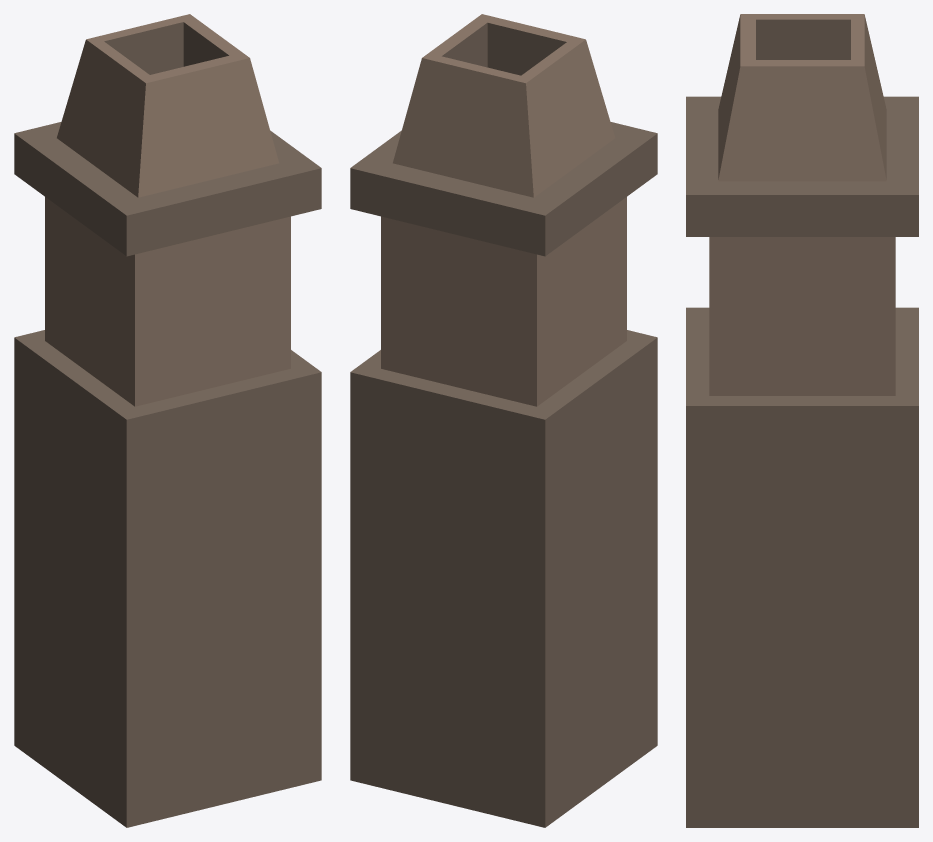
Rendered from Roof_Prop_Chimney_Stone.obj.
The picture shows the model from 3 angles, left to right: view 1: azimuth 30°, elevation 25°; view 2: azimuth 150°, elevation 25°; view 3: azimuth 270°, elevation 25°; orthographic projection. The views are drawn at different scales.
Visible parts, largest first — view 1: object1; view 2: object1; view 3: object1.
Boxes of the visible parts, x1,y1,x2,y2 form: object1: [14, 14, 321, 827]; object1: [350, 14, 657, 827]; object1: [686, 14, 918, 827].
Size of the model in its own units: 0.5 by 1.75 by 0.5.
